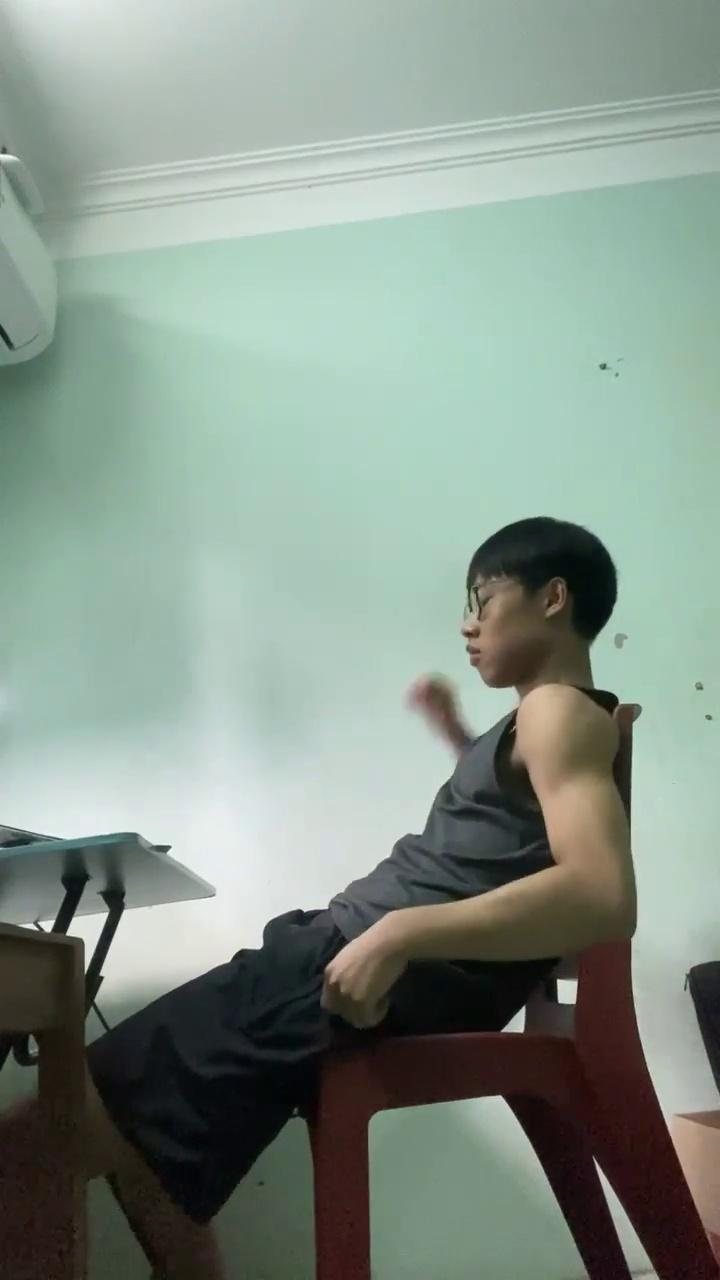BadPosture: (5, 518, 636, 1279), (321, 517, 636, 1027)
